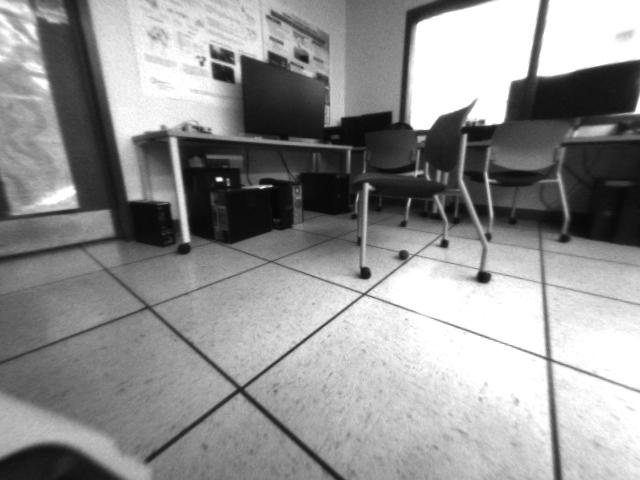dogtoy: (393, 244, 414, 260)
